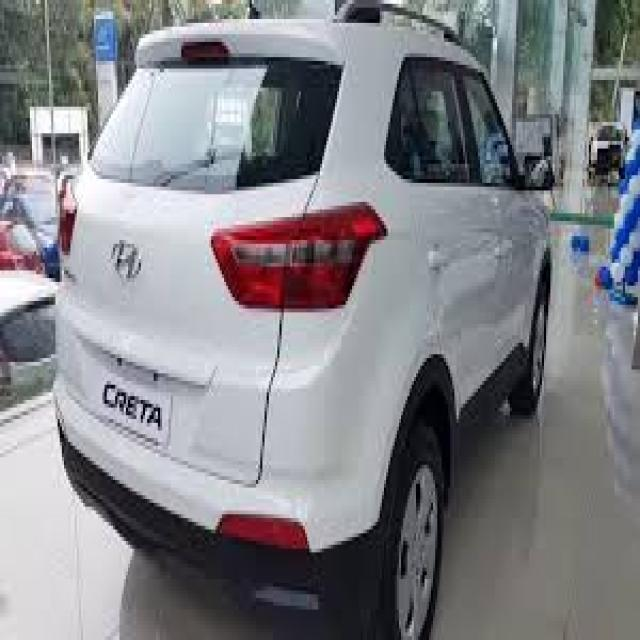SUV: (49, 12, 544, 636)
